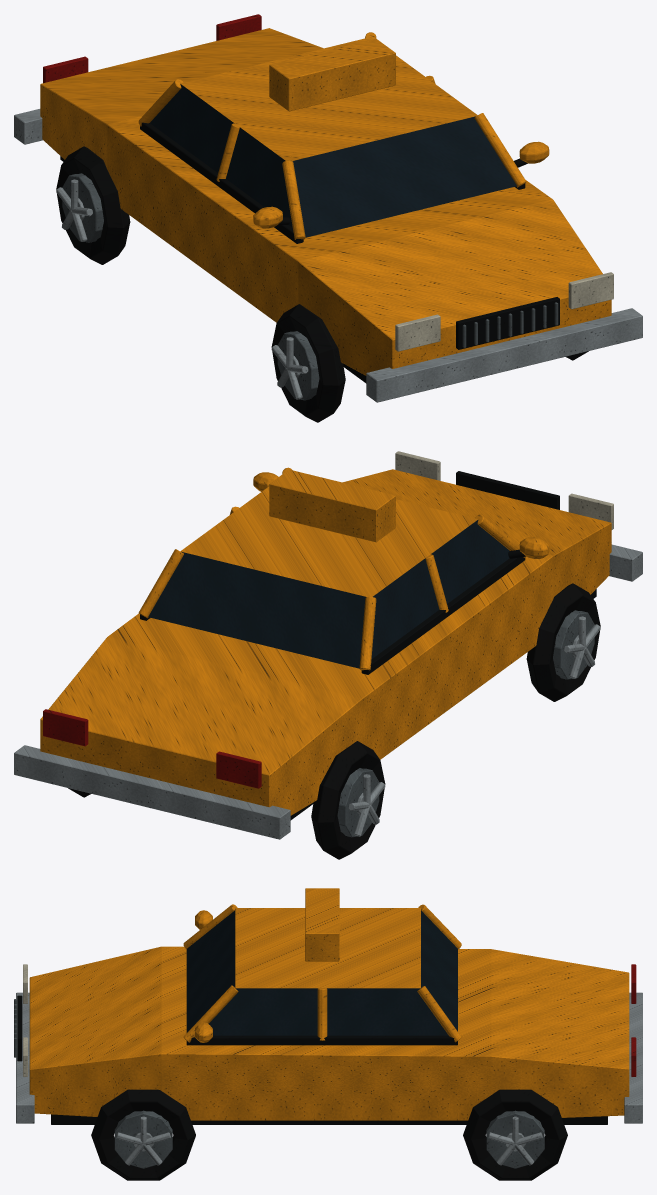
File: PROP-78AF102C3CAE_lod1.glb
3 renders of one model, top to bottom at view 1: azimuth 30°, elevation 25°; view 2: azimuth 150°, elevation 25°; view 3: azimuth 270°, elevation 25°, orthographic. The views are drawn at different scales.
Parts seen in each view (by area): view 1: shaped_body_panels.025, sloped_cabin_glazing.025, roof_panel.023, bumper.025, tire.025, taxi_roof_sign.002, window_pillars.025, rim.025, lamp_lenses.050, radiator_grille.025, window_belt.025, rim_spokes.025 (+3 smaller); view 2: shaped_body_panels.025, sloped_cabin_glazing.025, roof_panel.023, bumper.025, tire.025, taxi_roof_sign.002, rim.025, window_pillars.025, lamp_lenses.051, window_belt.025, lamp_lenses.050, rim_spokes.025 (+2 smaller); view 3: shaped_body_panels.025, sloped_cabin_glazing.025, roof_panel.023, tire.025, rim.025, bumper.025, window_belt.025, window_pillars.025, taxi_roof_sign.002, chassis.025, rim_spokes.025, mirror.025 (+1 smaller).
Part boxes in pixels (x1,y1,x2,y2): shaped_body_panels.025: (40,28,611,375); sloped_cabin_glazing.025: (150,84,516,237); roof_panel.023: (180,37,477,160); bumper.025: (14,109,642,402); tire.025: (56,146,588,422); taxi_roof_sign.002: (269,38,395,111); window_pillars.025: (138,32,526,239); rim.025: (62,173,319,400); lamp_lenses.050: (395,272,613,351); radiator_grille.025: (456,297,559,349); window_belt.025: (140,122,525,243); rim_spokes.025: (56,179,308,399); shaped_body_panels.025: (40,469,611,815); sloped_cabin_glazing.025: (148,520,509,668); roof_panel.023: (180,486,477,596); bumper.025: (14,544,642,839); tire.025: (68,583,600,859); taxi_roof_sign.002: (269,469,395,542); rim.025: (337,610,594,837); window_pillars.025: (138,467,524,670); lamp_lenses.051: (43,709,261,788); window_belt.025: (140,557,525,674); lamp_lenses.050: (395,451,613,529); rim_spokes.025: (348,616,600,836); shaped_body_panels.025: (29,946,629,1120); sloped_cabin_glazing.025: (186,909,457,1035); roof_panel.023: (235,908,420,988); tire.025: (91,1089,567,1180); rim.025: (114,1110,544,1168); bumper.025: (16,992,642,1123); window_belt.025: (186,1035,457,1045); window_pillars.025: (183,904,461,1042); taxi_roof_sign.002: (305,888,339,961); chassis.025: (51,1114,607,1124); rim_spokes.025: (116,1116,542,1165); mirror.025: (195,910,212,1042).
Size of the model in its own units: 2.09 by 1.67 by 4.41.
8 materials, 8 textured.
